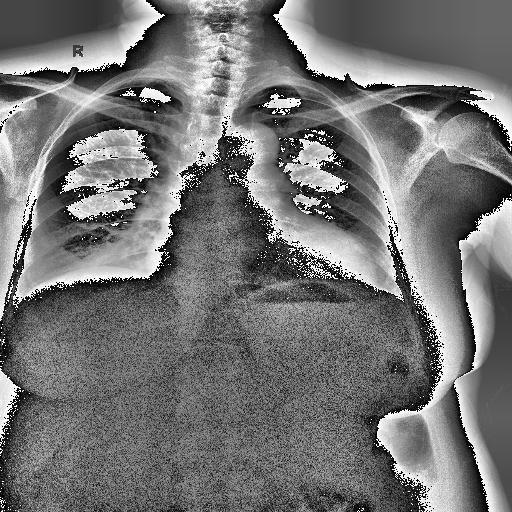0- Aortic enlargement: (230, 122, 278, 190), (226, 124, 278, 165), (228, 124, 279, 162)
3- Cardiomegaly: (145, 209, 373, 290), (142, 222, 377, 286), (144, 234, 378, 293)
